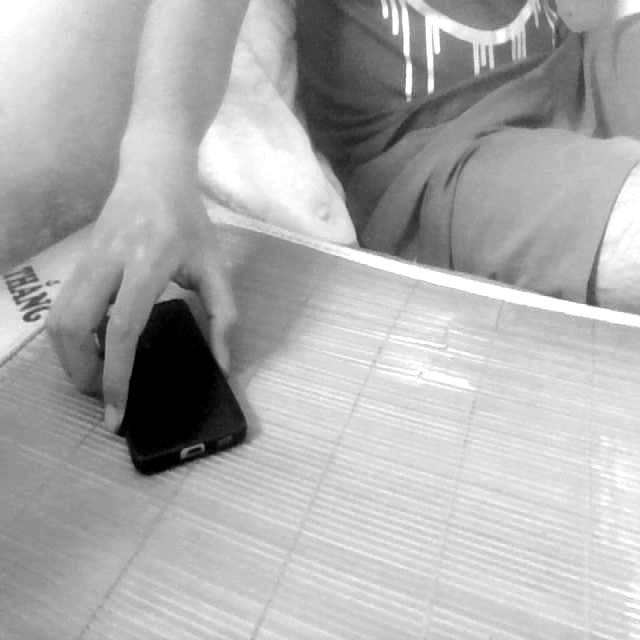phone: (91, 271, 260, 494)
